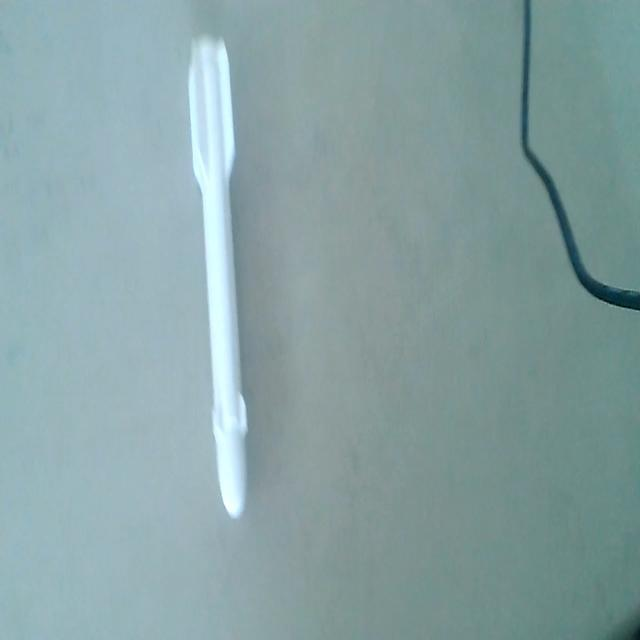Rocket: (187, 36, 251, 524)
